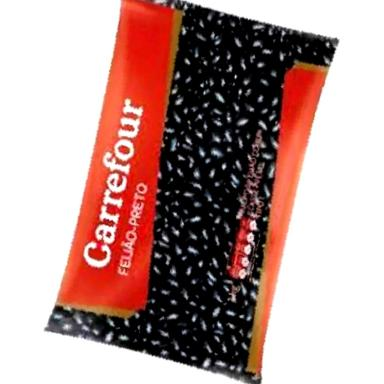beans package: (47, 0, 337, 381)
